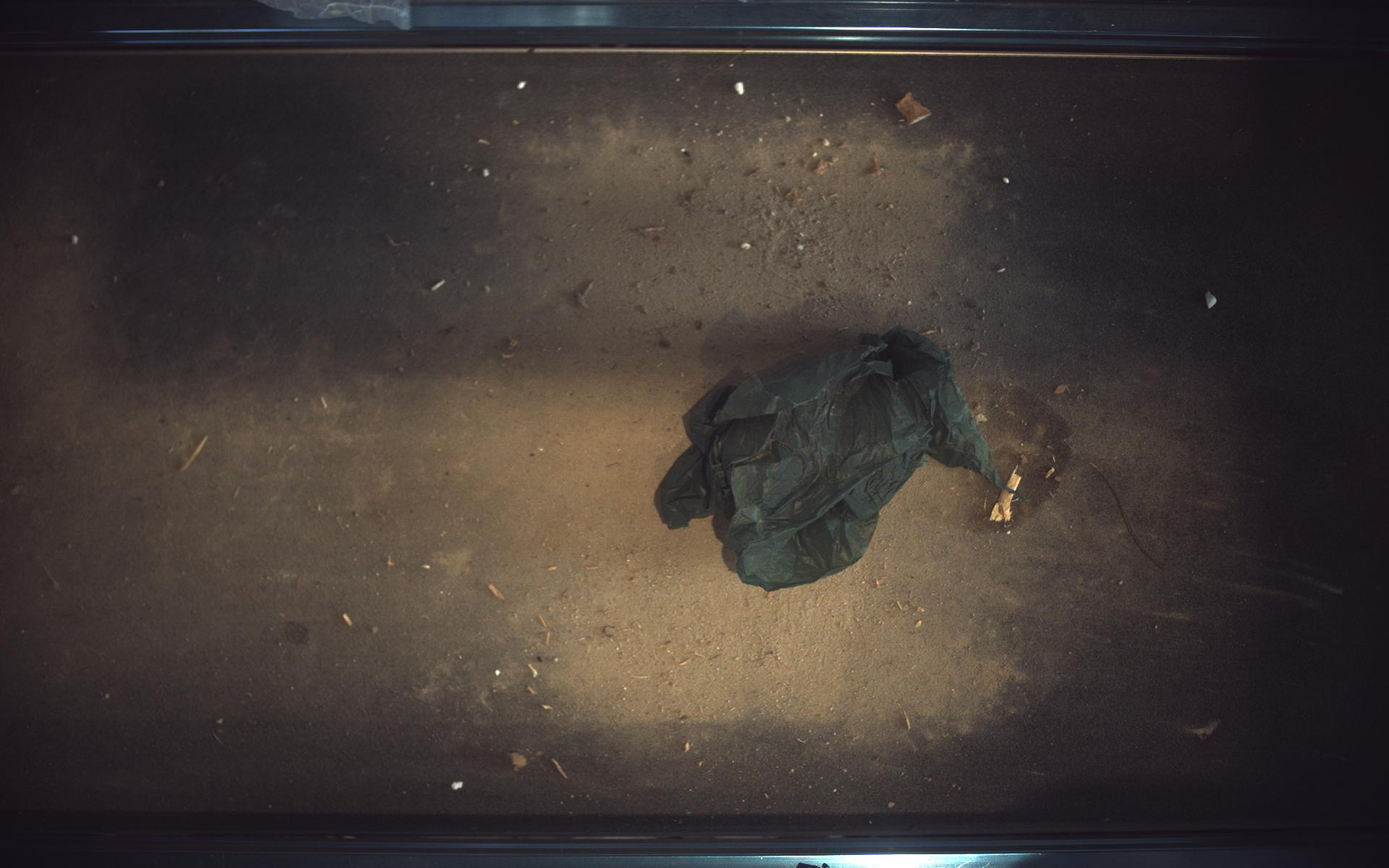general_w: (658, 327, 1006, 590)
